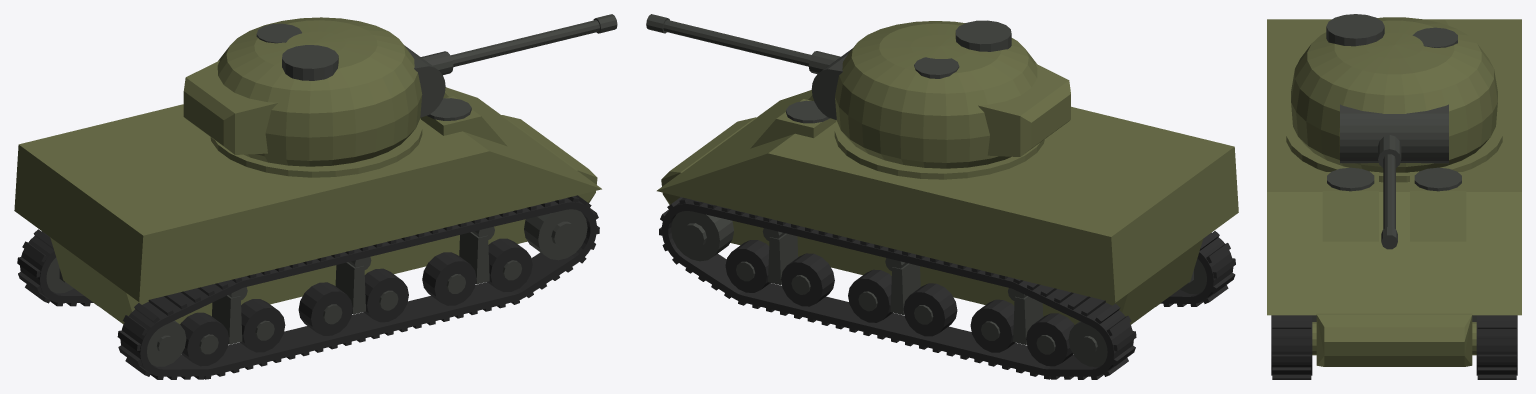
The model's file is us_m4a3_sherman.obj.
3 renders of one model, left to right at view 1: azimuth 30°, elevation 25°; view 2: azimuth 150°, elevation 25°; view 3: azimuth 270°, elevation 25°, orthographic. The views are drawn at different scales.
Bounding box in the file's own units: 6.48 × 2.99 × 2.62.
